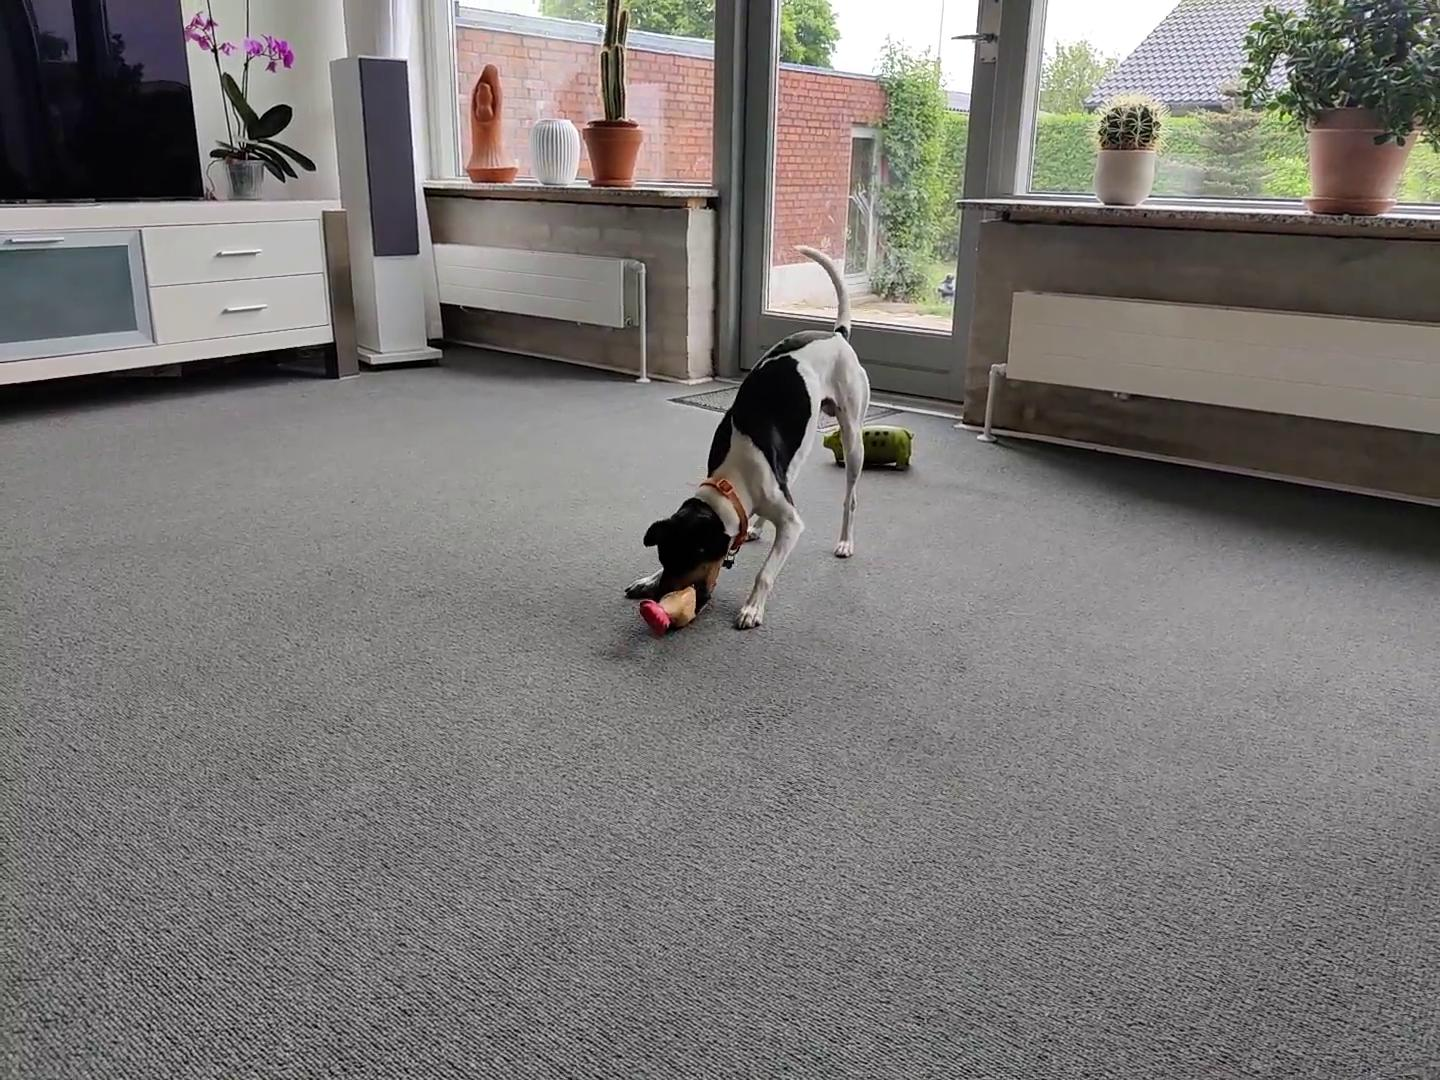Dog: (619, 239, 872, 636)
